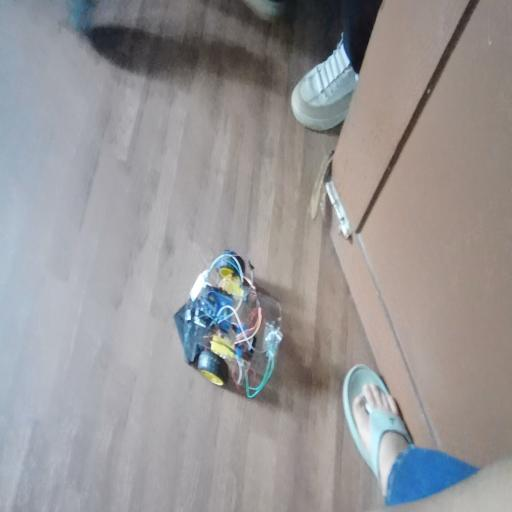car: (178, 245, 287, 412)
